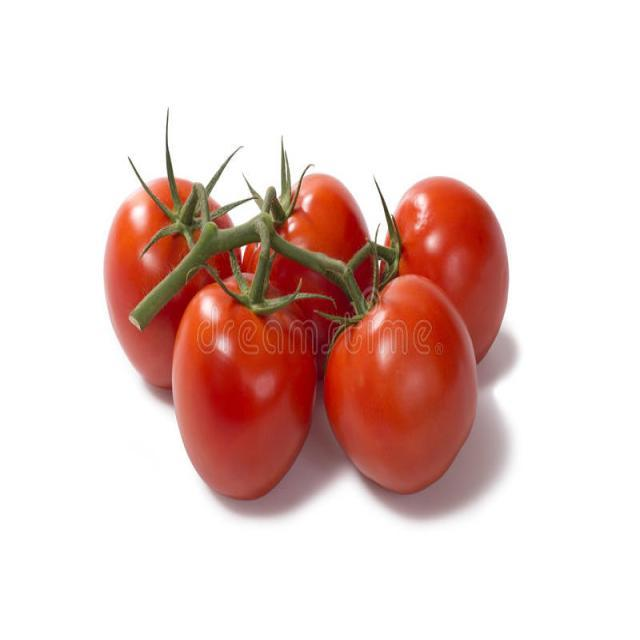kirmizi: (106, 154, 516, 488)
